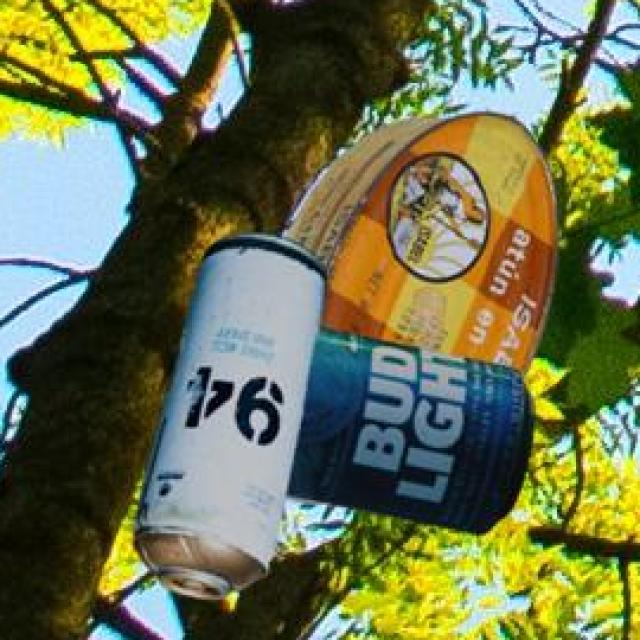logam: (290, 117, 558, 383), (136, 236, 328, 603), (290, 331, 537, 537)
